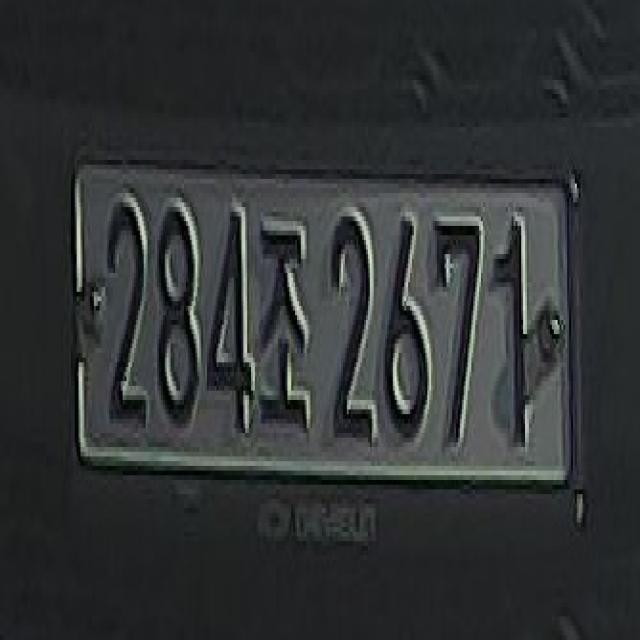plat: (71, 152, 581, 489)
